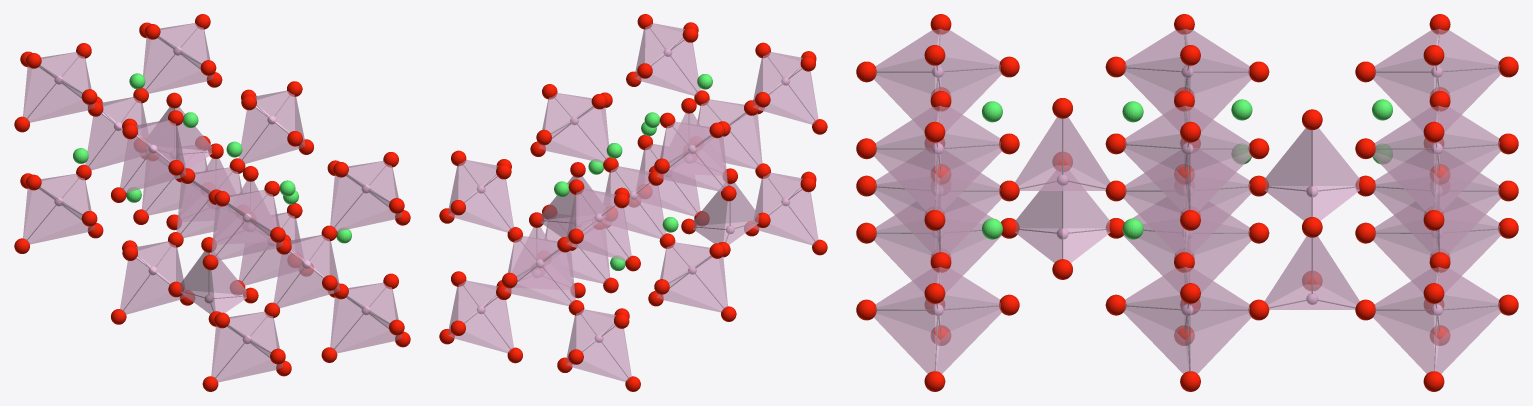
3 views of the same model, side by side, from view 1: azimuth 30°, elevation 25°; view 2: azimuth 150°, elevation 25°; view 3: azimuth 270°, elevation 25° (orthographic). The views are drawn at different scales.
Parts seen in each view (by area): view 1: Shape_IndexedFaceSet.069, Shape_IndexedFaceSet.061, Shape_IndexedFaceSet.093, Shape_IndexedFaceSet.117, Shape_IndexedFaceSet.109, Shape_IndexedFaceSet.101, Shape_IndexedFaceSet.085, Shape_IndexedFaceSet.098, Shape_IndexedFaceSet.066, Shape_IndexedFaceSet.106, Shape_IndexedFaceSet.058, Shape_IndexedFaceSet.090 (+62 smaller); view 2: Shape_IndexedFaceSet.047, Shape_IndexedFaceSet.015, Shape_IndexedFaceSet.055, Shape_IndexedFaceSet.039, Shape_IndexedFaceSet.008, Shape_IndexedFaceSet.040, Shape_IndexedFaceSet.048, Shape_IndexedFaceSet.032, Shape_IndexedFaceSet.119, Shape_IndexedFaceSet.087, Shape_IndexedFaceSet.095, Shape_IndexedFaceSet.079 (+62 smaller); view 3: Shape_IndexedFaceSet.126, Shape_IndexedFaceSet.134, Shape_IndexedFaceSet.120, Shape_IndexedFaceSet.030, Shape_IndexedFaceSet.038, Shape_IndexedFaceSet.076, Shape_IndexedFaceSet.084, Shape_IndexedFaceSet.060, Shape_IndexedFaceSet.068, Shape_IndexedFaceSet.037, Shape_IndexedFaceSet.029, Shape_IndexedFaceSet.062 (+110 smaller).
Boxes of the visible parts, left/top/right/bottom form: Shape_IndexedFaceSet.069: left=330, top=175, right=395, bottom=231; Shape_IndexedFaceSet.061: left=330, top=297, right=395, bottom=352; Shape_IndexedFaceSet.093: left=211, top=326, right=276, bottom=381; Shape_IndexedFaceSet.117: left=23, top=67, right=87, bottom=122; Shape_IndexedFaceSet.109: left=23, top=188, right=87, bottom=243; Shape_IndexedFaceSet.101: left=211, top=204, right=276, bottom=260; Shape_IndexedFaceSet.085: left=143, top=38, right=206, bottom=93; Shape_IndexedFaceSet.098: left=212, top=203, right=270, bottom=259; Shape_IndexedFaceSet.066: left=331, top=174, right=389, bottom=230; Shape_IndexedFaceSet.106: left=23, top=187, right=82, bottom=243; Shape_IndexedFaceSet.058: left=331, top=296, right=389, bottom=351; Shape_IndexedFaceSet.090: left=212, top=325, right=270, bottom=381; Shape_IndexedFaceSet.047: left=663, top=257, right=727, bottom=311; Shape_IndexedFaceSet.015: left=511, top=250, right=575, bottom=305; Shape_IndexedFaceSet.055: left=663, top=136, right=727, bottom=191; Shape_IndexedFaceSet.039: left=545, top=107, right=608, bottom=162; Shape_IndexedFaceSet.008: left=516, top=249, right=574, bottom=304; Shape_IndexedFaceSet.040: left=669, top=255, right=727, bottom=311; Shape_IndexedFaceSet.048: left=669, top=135, right=727, bottom=190; Shape_IndexedFaceSet.032: left=551, top=106, right=609, bottom=161; Shape_IndexedFaceSet.119: left=572, top=204, right=631, bottom=260; Shape_IndexedFaceSet.087: left=454, top=175, right=513, bottom=232; Shape_IndexedFaceSet.095: left=759, top=188, right=817, bottom=244; Shape_IndexedFaceSet.079: left=454, top=296, right=513, bottom=352; Shape_IndexedFaceSet.126: left=1015, top=117, right=1109, bottom=190; Shape_IndexedFaceSet.134: left=1264, top=236, right=1359, bottom=309; Shape_IndexedFaceSet.120: left=1265, top=128, right=1359, bottom=185; Shape_IndexedFaceSet.030: left=1123, top=295, right=1190, bottom=373; Shape_IndexedFaceSet.038: left=1123, top=134, right=1190, bottom=212; Shape_IndexedFaceSet.076: left=1434, top=295, right=1500, bottom=373; Shape_IndexedFaceSet.084: left=1434, top=134, right=1500, bottom=212; Shape_IndexedFaceSet.060: left=935, top=295, right=1001, bottom=373; Shape_IndexedFaceSet.068: left=935, top=134, right=1001, bottom=212; Shape_IndexedFaceSet.037: left=1190, top=135, right=1251, bottom=212; Shape_IndexedFaceSet.029: left=1190, top=296, right=1251, bottom=373; Shape_IndexedFaceSet.062: left=874, top=296, right=934, bottom=373.
Bounding box in the file's own units: 1045 × 966 × 2224.
